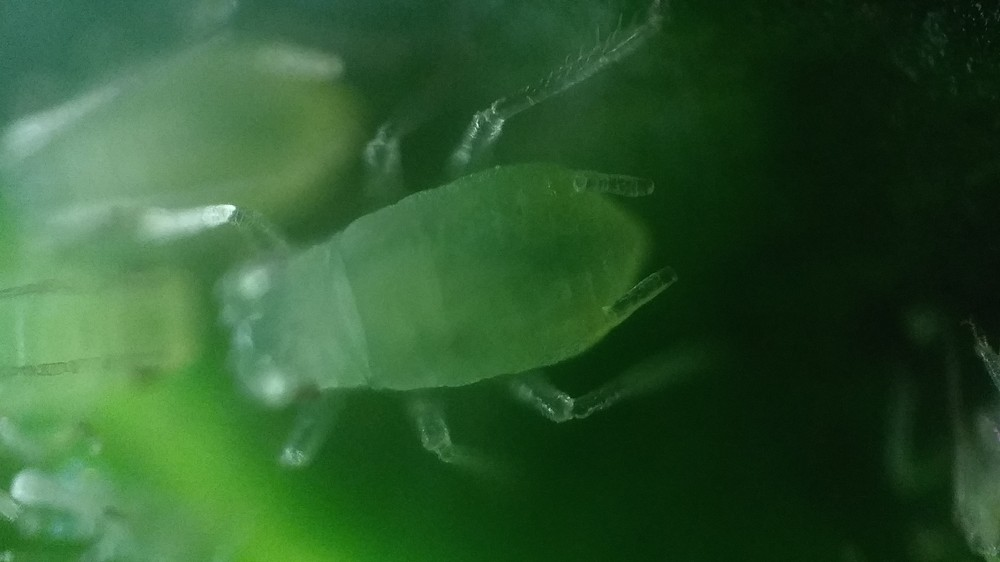Pulgon: (196, 53, 783, 498)
